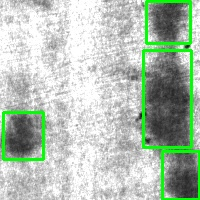patches: (143, 50, 191, 147), (3, 112, 43, 159), (146, 1, 190, 43), (162, 151, 199, 199)
